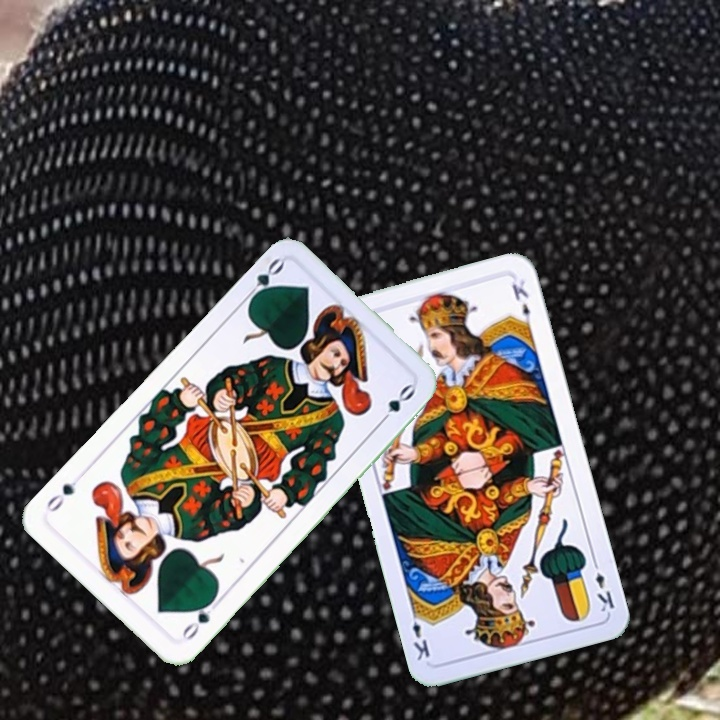EK: (588, 555, 617, 615)
GO: (239, 254, 287, 307), (178, 594, 218, 644)
